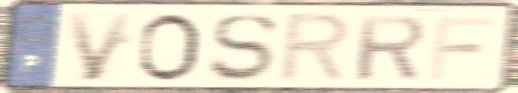F: (426, 14, 497, 82)
O: (134, 11, 202, 84)
R: (273, 10, 355, 85), (354, 13, 428, 83)
S: (207, 12, 281, 84)
V: (63, 10, 138, 84)
